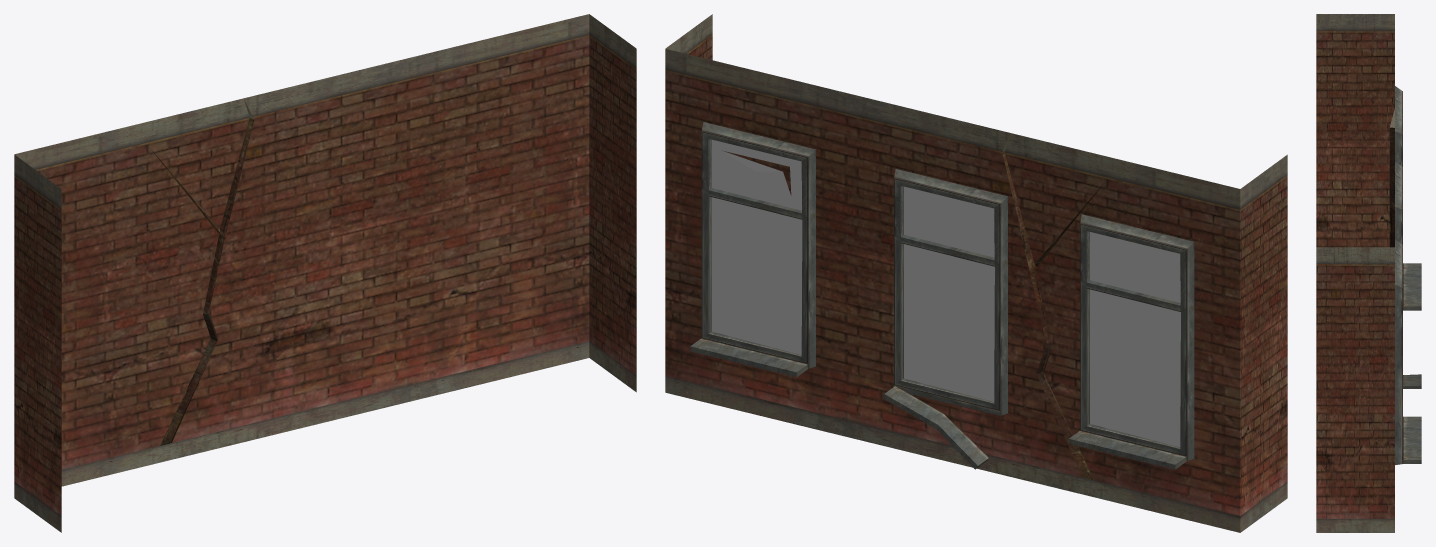
The model's file is Store_front_8_D.fbx.
3 views of the same model, side by side, from view 1: azimuth 30°, elevation 25°; view 2: azimuth 150°, elevation 25°; view 3: azimuth 270°, elevation 25° (orthographic). The views are drawn at different scales.
Visible parts, largest first — view 1: Store_front_8_D; view 2: Store_front_8_D; view 3: Store_front_8_D.
Part boxes in pixels (<box>): Store_front_8_D: <box>14,14,636,532</box>; Store_front_8_D: <box>665,14,1287,532</box>; Store_front_8_D: <box>1316,14,1421,532</box>.
Size of the model in its own units: 700 by 400 by 134.
